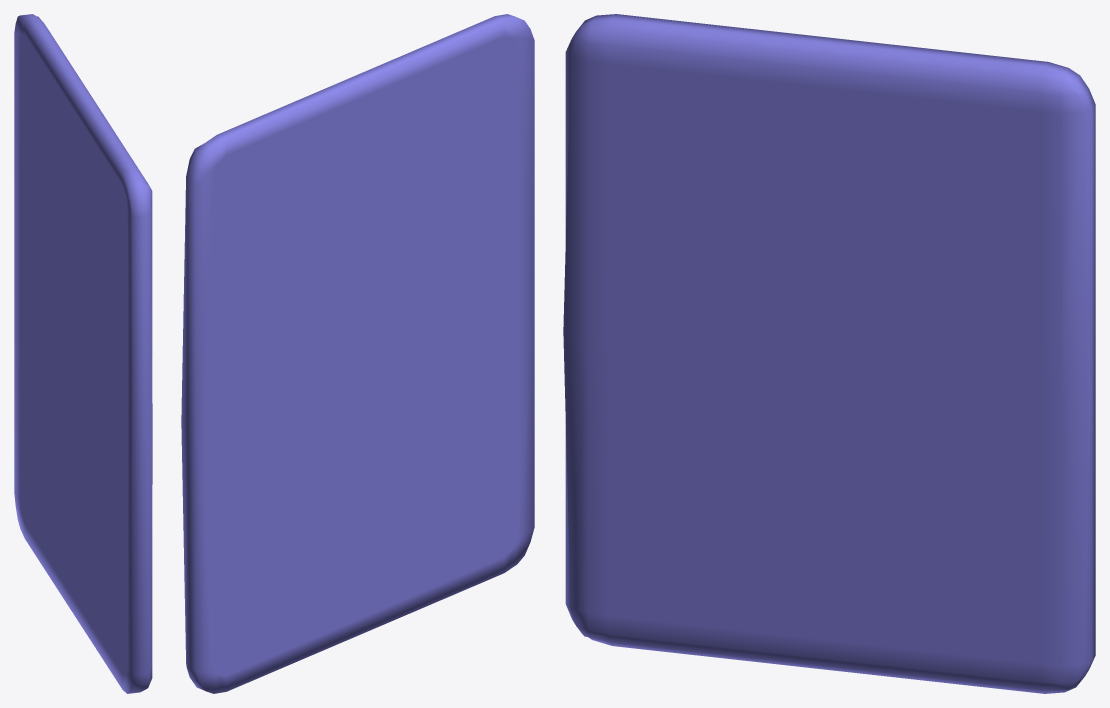
Rendered from Tablet.fbx.
3 views of the same model, side by side, from view 1: azimuth 30°, elevation 25°; view 2: azimuth 150°, elevation 25°; view 3: azimuth 270°, elevation 25° (orthographic). The views are drawn at different scales.
Parts seen in each view (by area): view 1: Tablet; view 2: Tablet; view 3: Tablet.
Part boxes in pixels (x1,y1,x2,y2): Tablet: [14, 14, 152, 693]; Tablet: [181, 14, 534, 693]; Tablet: [563, 14, 1095, 693].
Bounding box in the file's own units: 7.72 × 25.44 × 33.
